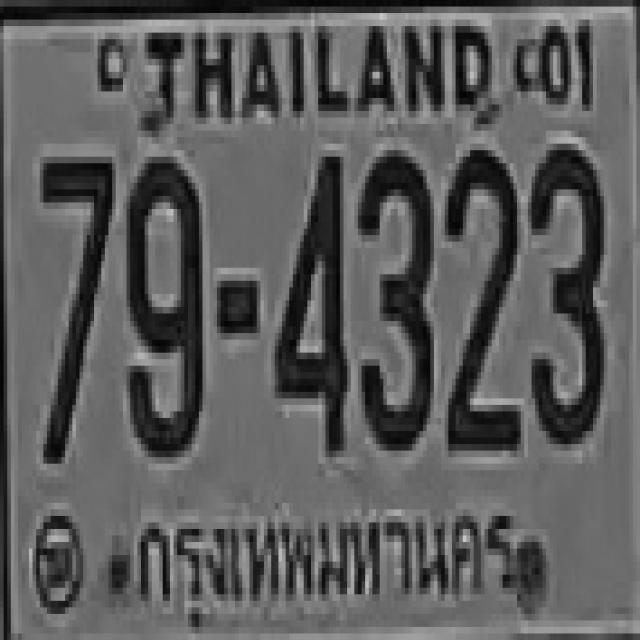2: (445, 144, 517, 444)
3: (528, 140, 600, 441), (358, 144, 430, 444)
4: (273, 150, 345, 451)
7: (40, 150, 112, 457)
9: (123, 150, 202, 451)
Bangkok: (127, 496, 521, 634)
